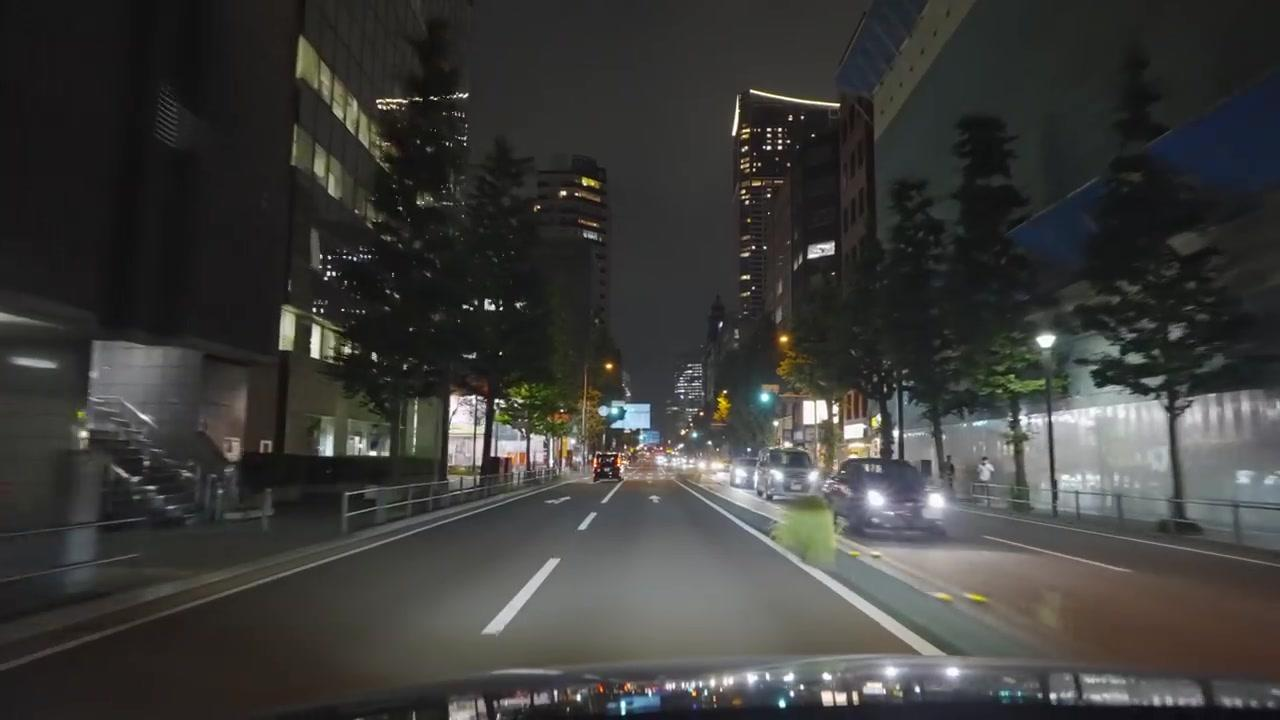car: (823, 458, 950, 539), (755, 448, 821, 501), (591, 452, 624, 481), (730, 454, 758, 487)
person: (976, 455, 995, 504), (944, 456, 956, 487)
traffic light: (715, 390, 731, 422), (758, 386, 775, 416)
